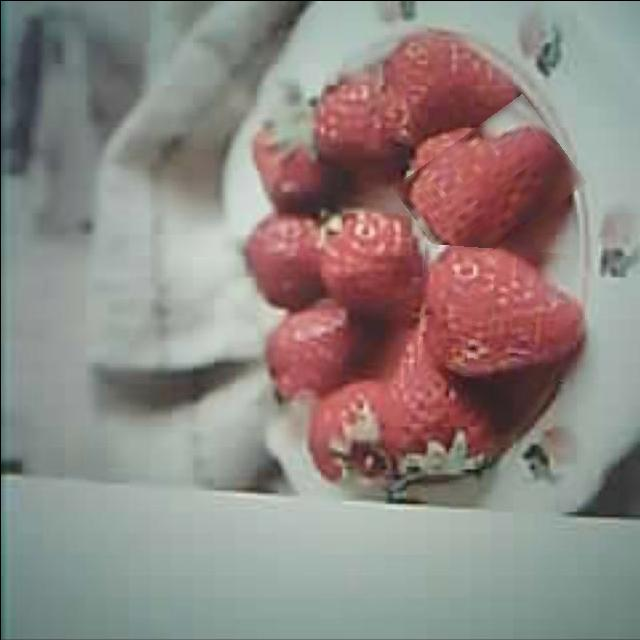strawberry: (400, 110, 578, 258), (418, 245, 574, 378)
